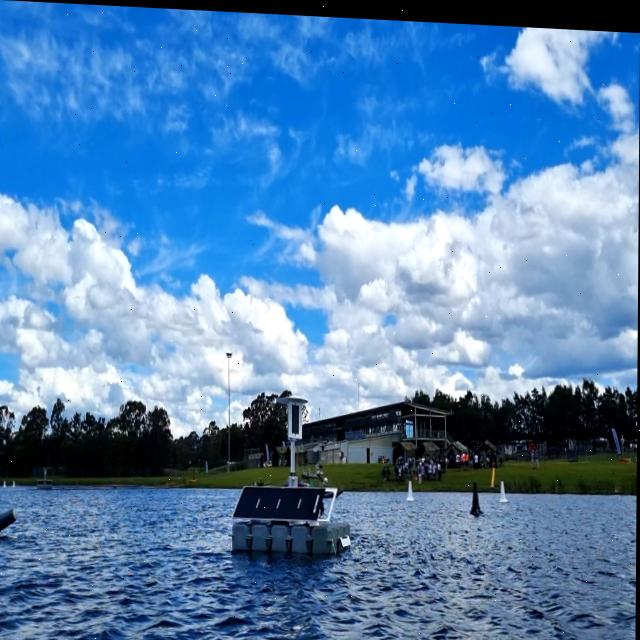led: (290, 398, 302, 434)
